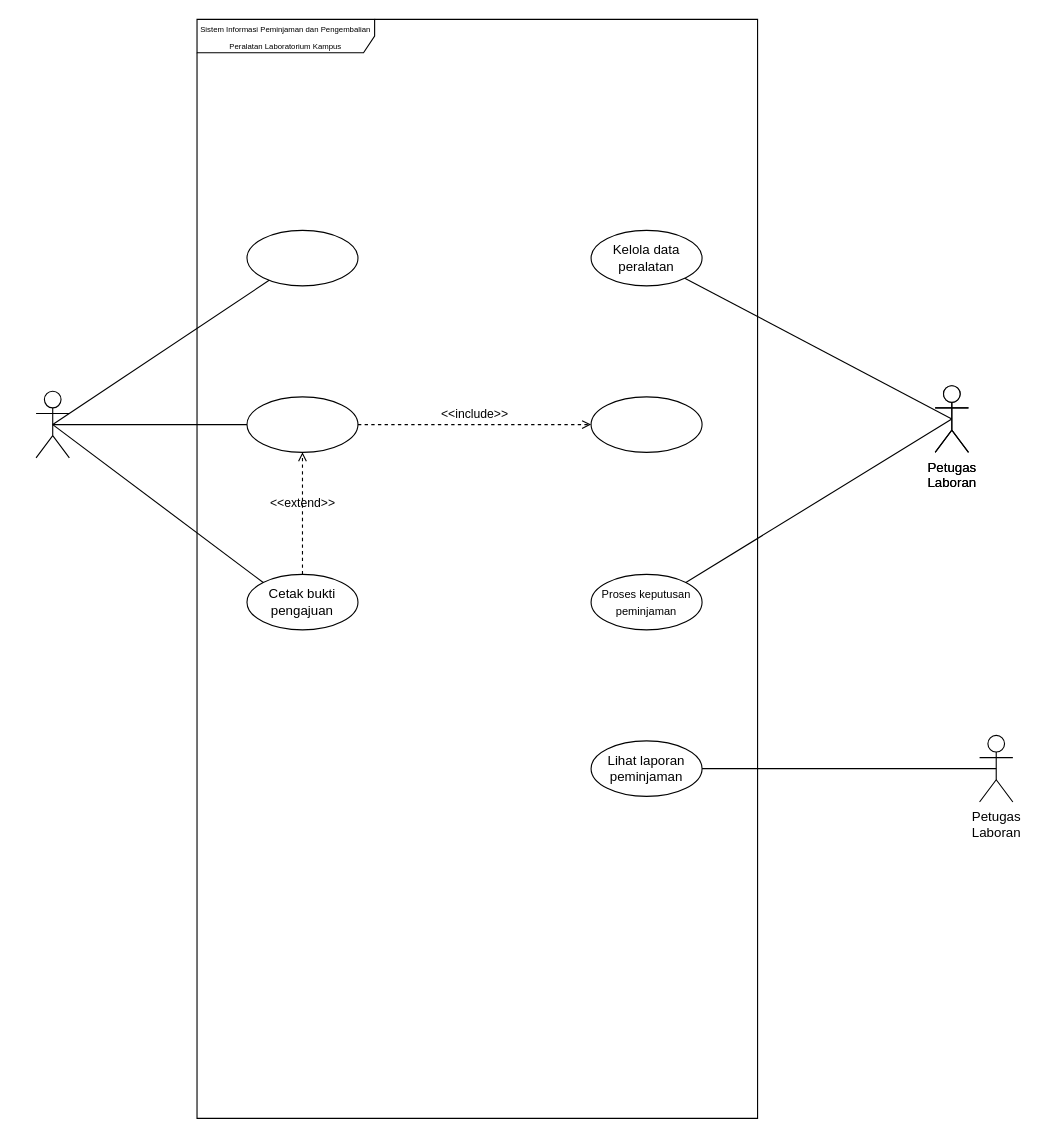
The diagram is 1040 pixels wide and 1138 high, and some of its shapes have lost their labels. The shapes that lost their labels are listed below. From the top down, each one's centre as x and y in pixels, then its label:
[302,257]: Lihat ketersediaan peralatan
[52,424]: Mahasiswa
[302,424]: Ajukan peminjaman
[646,424]: Periksa ketersediaan
